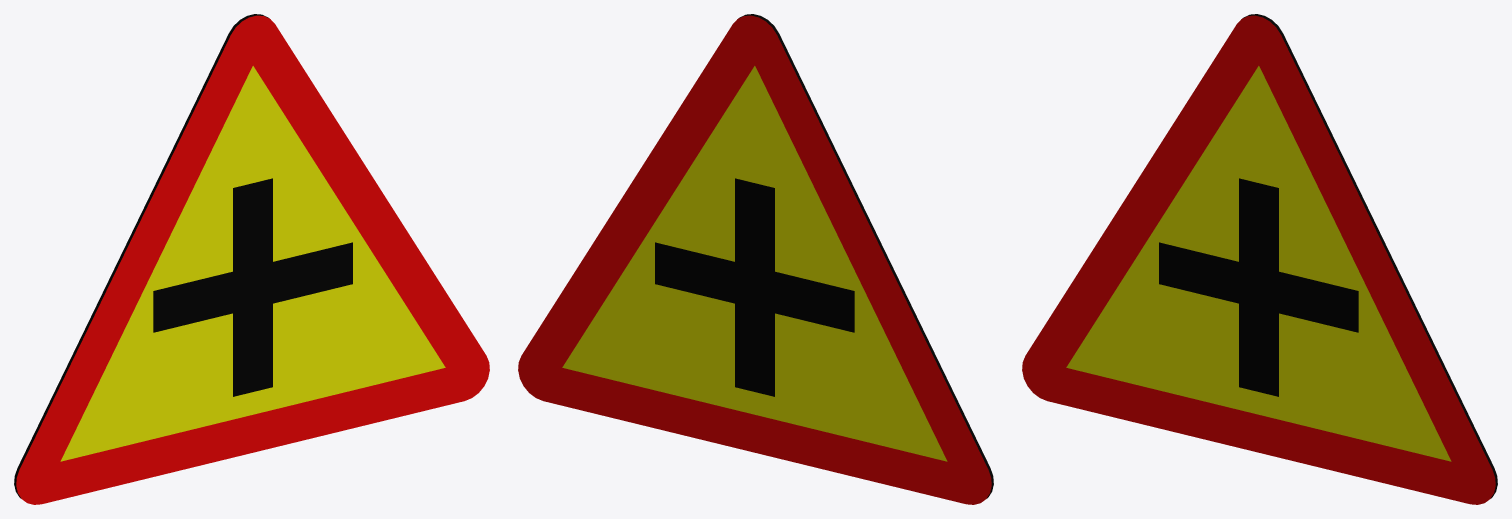
File: w.205a_duonggiaonhau.glb
3 views of the same model, side by side, from view 1: azimuth 30°, elevation 25°; view 2: azimuth 150°, elevation 25°; view 3: azimuth 330°, elevation 25° (orthographic).
Parts seen in each view (by area): view 1: Solid3; view 2: Solid3; view 3: Solid3.
Part boxes in pixels (<box>): Solid3: <box>14,14,489,504</box>; Solid3: <box>518,14,993,504</box>; Solid3: <box>1022,14,1497,504</box>.
Size of the model in its own units: 0.6486 by 0.5708 by 0.005.
